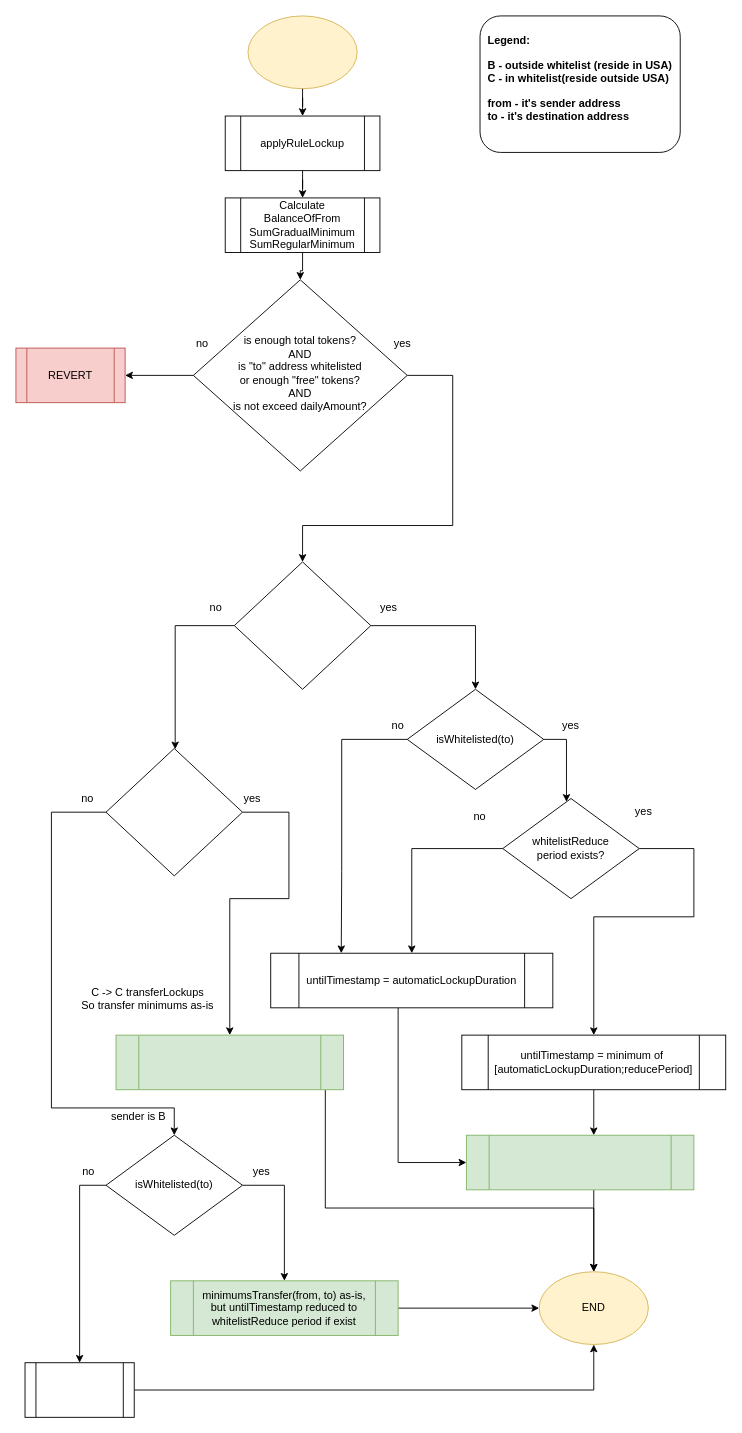
The diagram is 742 pixels wide and 1433 high, and some of its shapes have lost their labels. The shapes that lost their labels are listed below. From the top down, each one's centre as x and y in pixels, then its label:
(x=302, y=52): BEGIN
(x=302, y=625): Have "from" address automatic lockup?
(x=174, y=812): (isWhitelisted(from) && isWhitelisted(to)
(x=229, y=1062): minimumsTransfer(from, to) as-is
(x=579, y=1162): create new minimum or append into exists until untilTimestamp
(x=79, y=1389): do nothing
